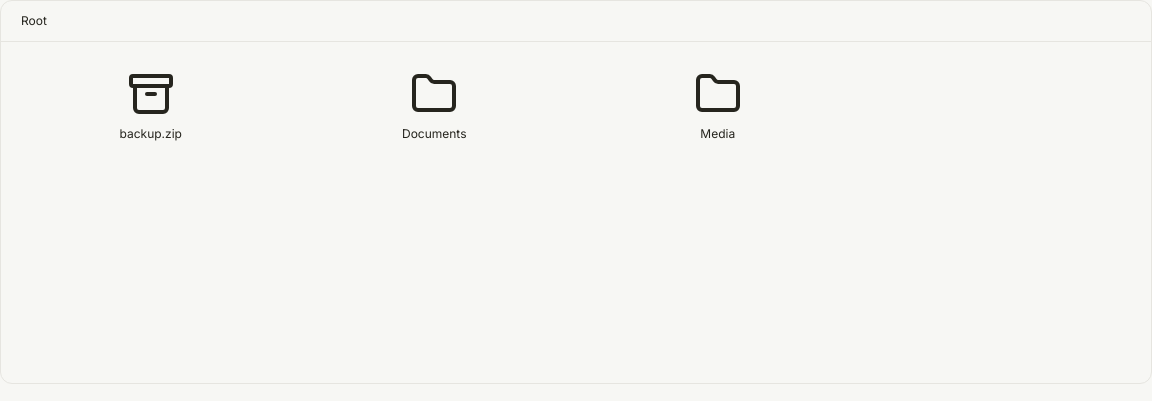
Test case: FileSystem › drills down into folders in icons view
Click the text "Documents" at (434, 134), box [402,126,466,141]
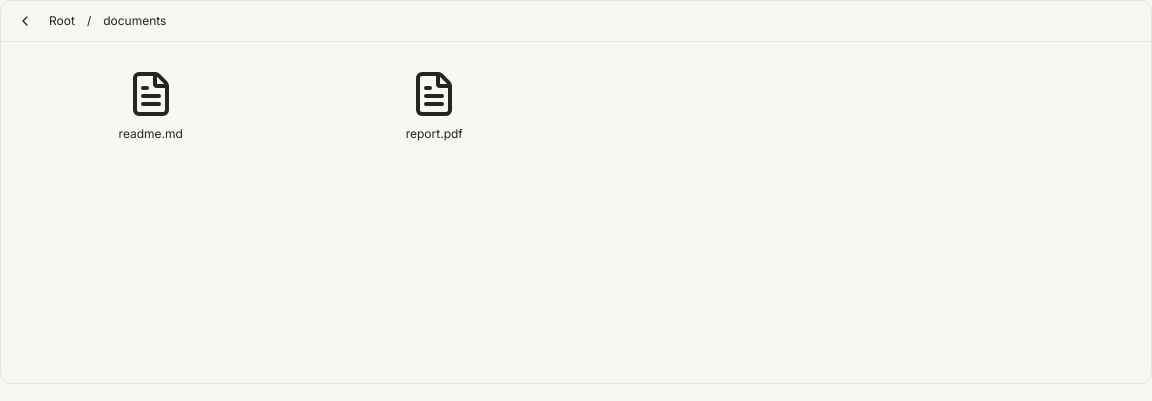
Expected: the button "Root" is shown, [41,9,83,33]
Expected: the text "readme.md" is shown, [119,126,183,141]
